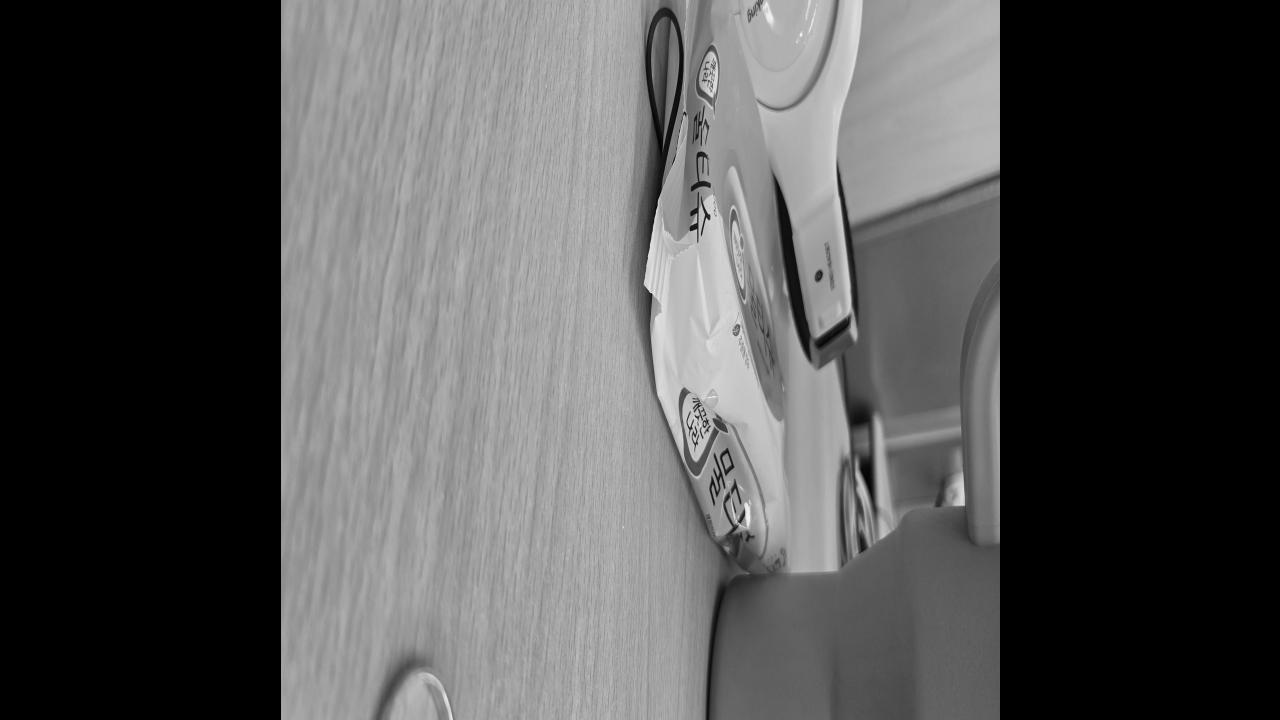ring: (364, 657, 459, 720)
